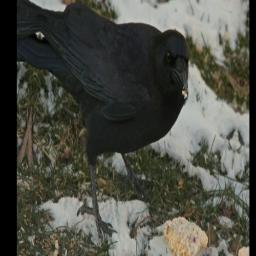Crow: (21, 0, 195, 256)
